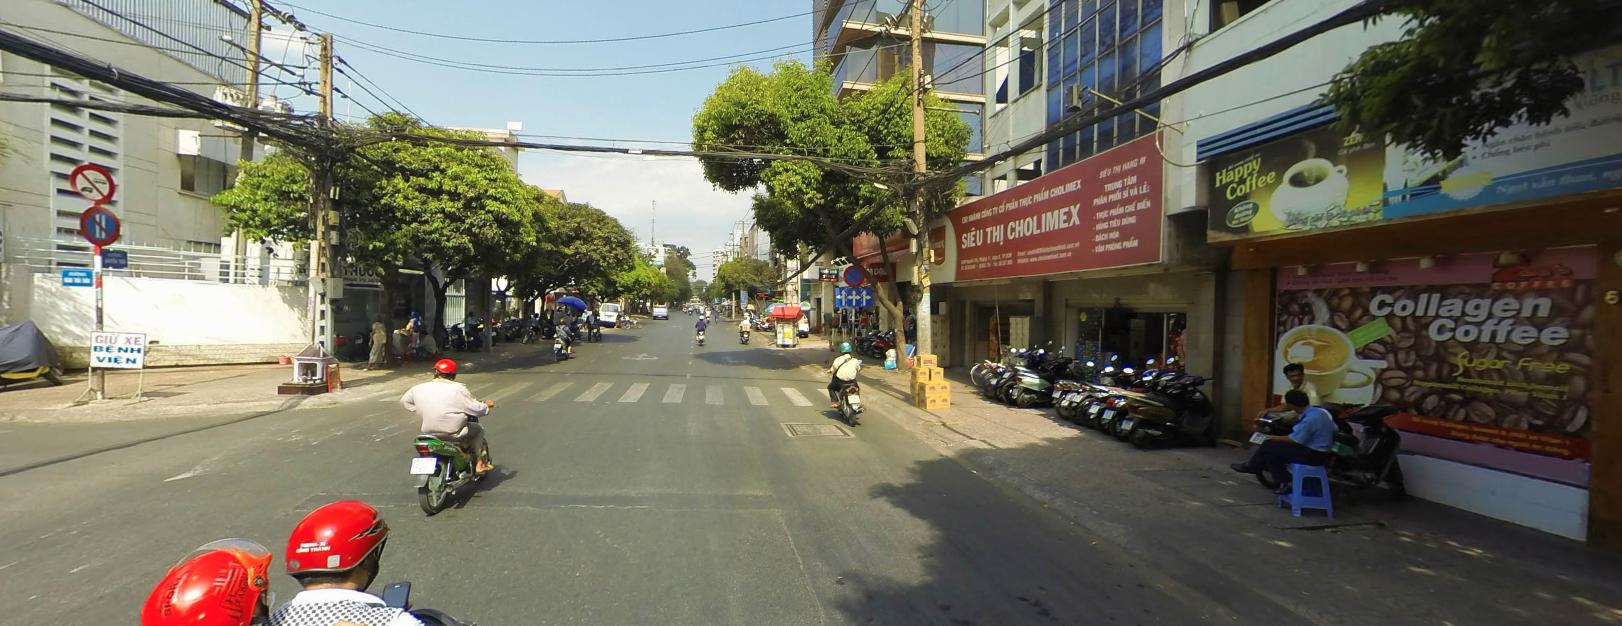Cam con lai: (69, 162, 114, 201)
Cam dung va do: (79, 205, 120, 242), (843, 264, 863, 285)
